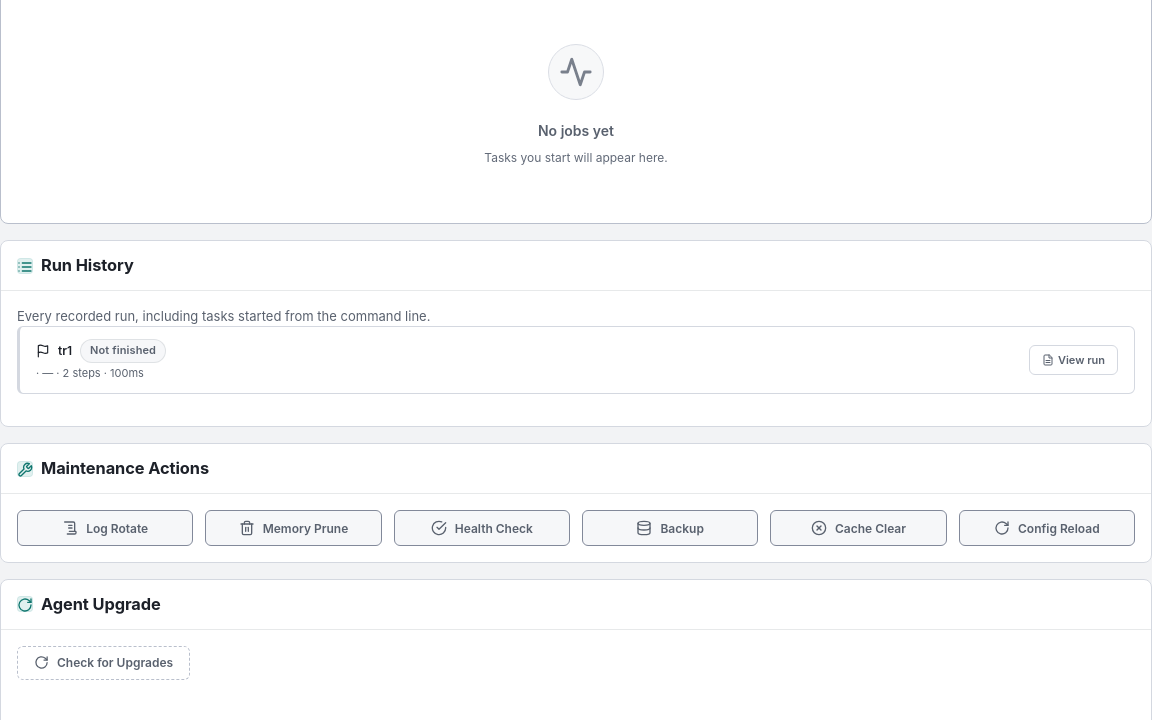
Test case: ControlPanel.vue › shows an error when share creation fails
The image size is (1152, 720).
(page scrolled)
What coordinates should you click on to do the following:
click the button "View run"
I would click on:
 (1073, 360)
Its box is [1029,345,1118,375].
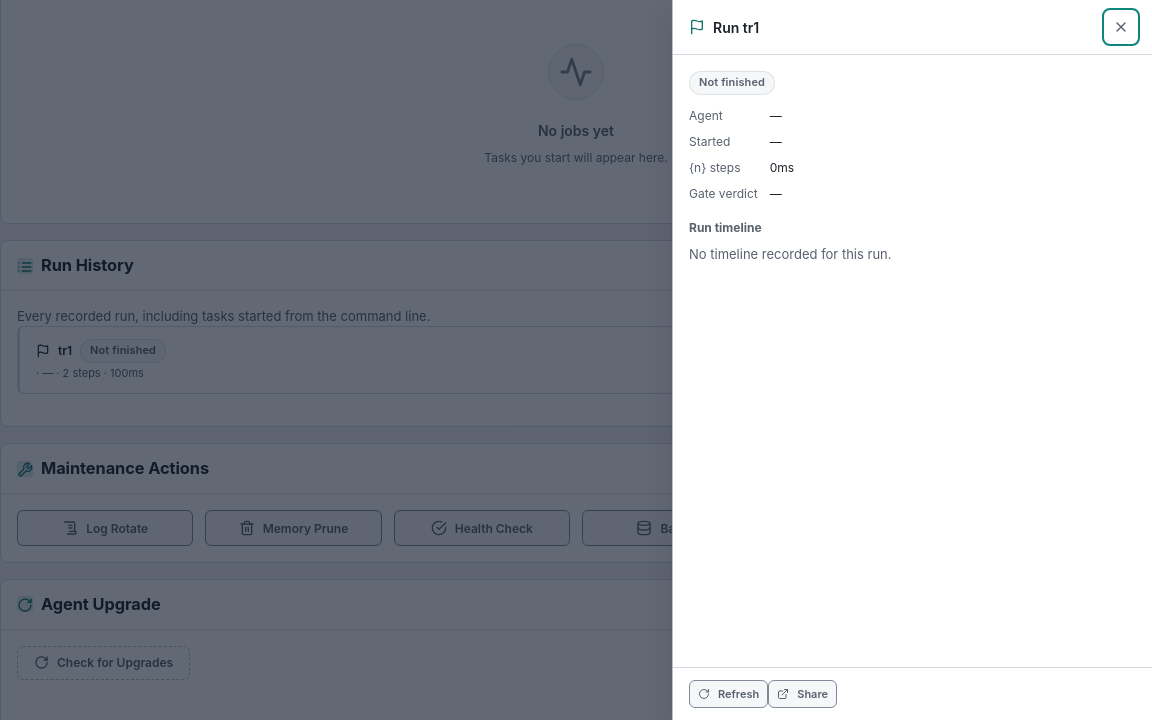
What coordinates should you click on to do the following:
click the button "Share"
I would click on:
 (803, 694)
Its box is [768,680,837,708].
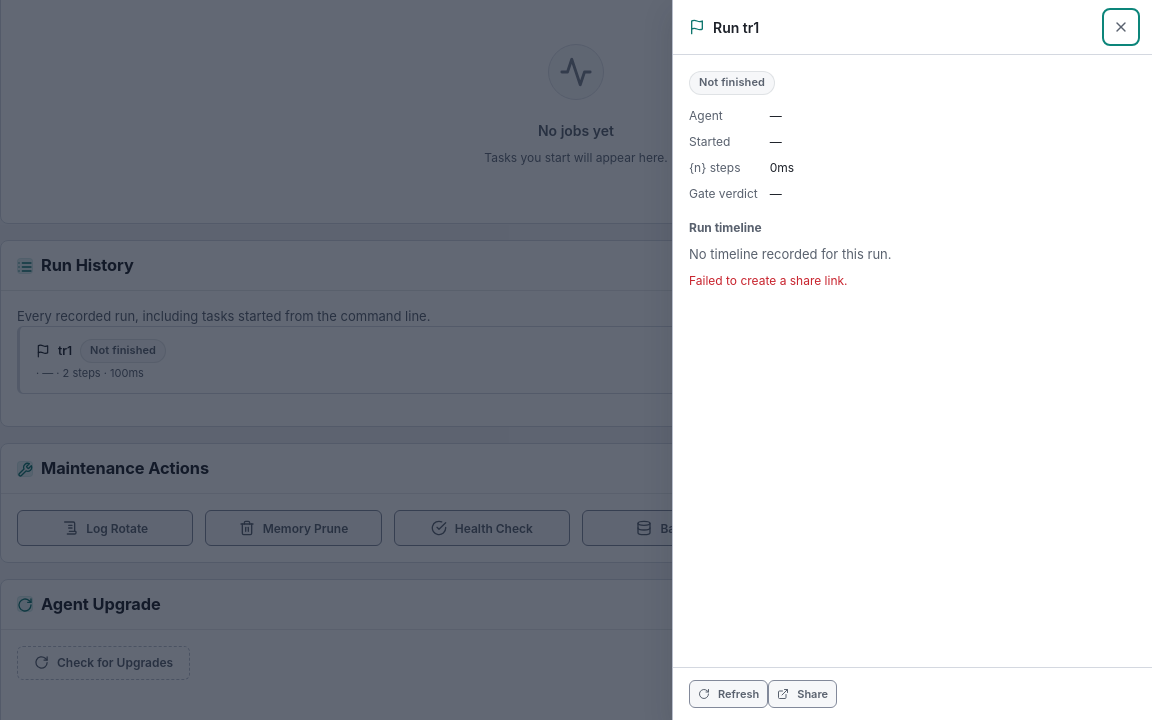
Now the text "Failed to create a share link" is shown, box [689,273,848,288]
